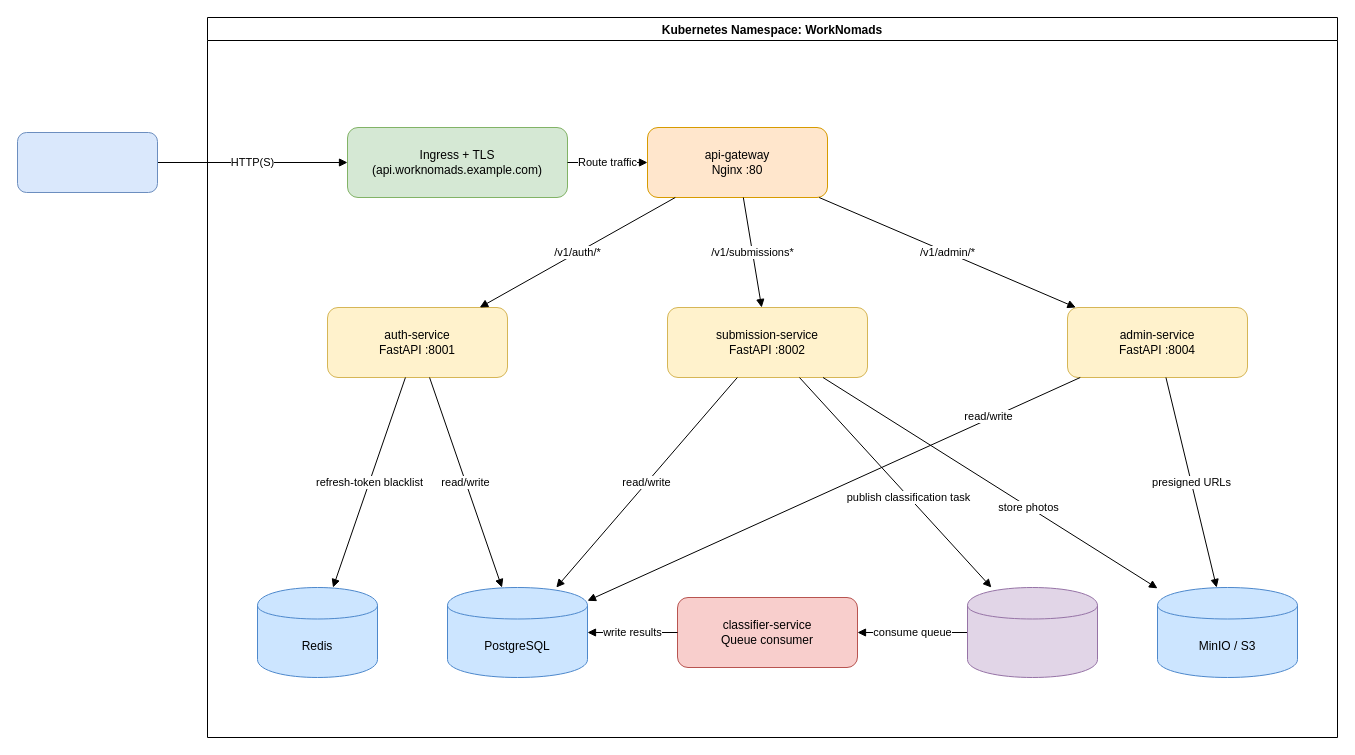
This 1355x755 diagram has some shape labels left out. The centre of each missing label's shape, as x and y in pixels:
Browser / Client: (x=87, y=162)
RabbitMQ: (x=1032, y=632)
